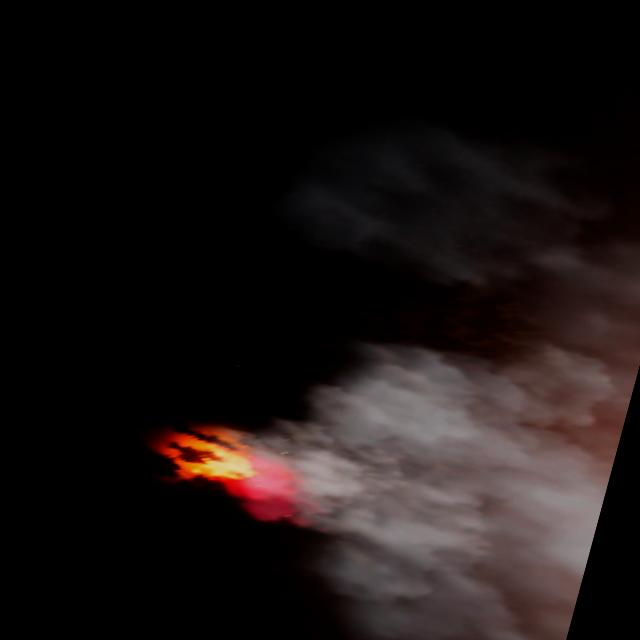fire: (165, 431, 258, 503)
smoke: (149, 77, 640, 640)
